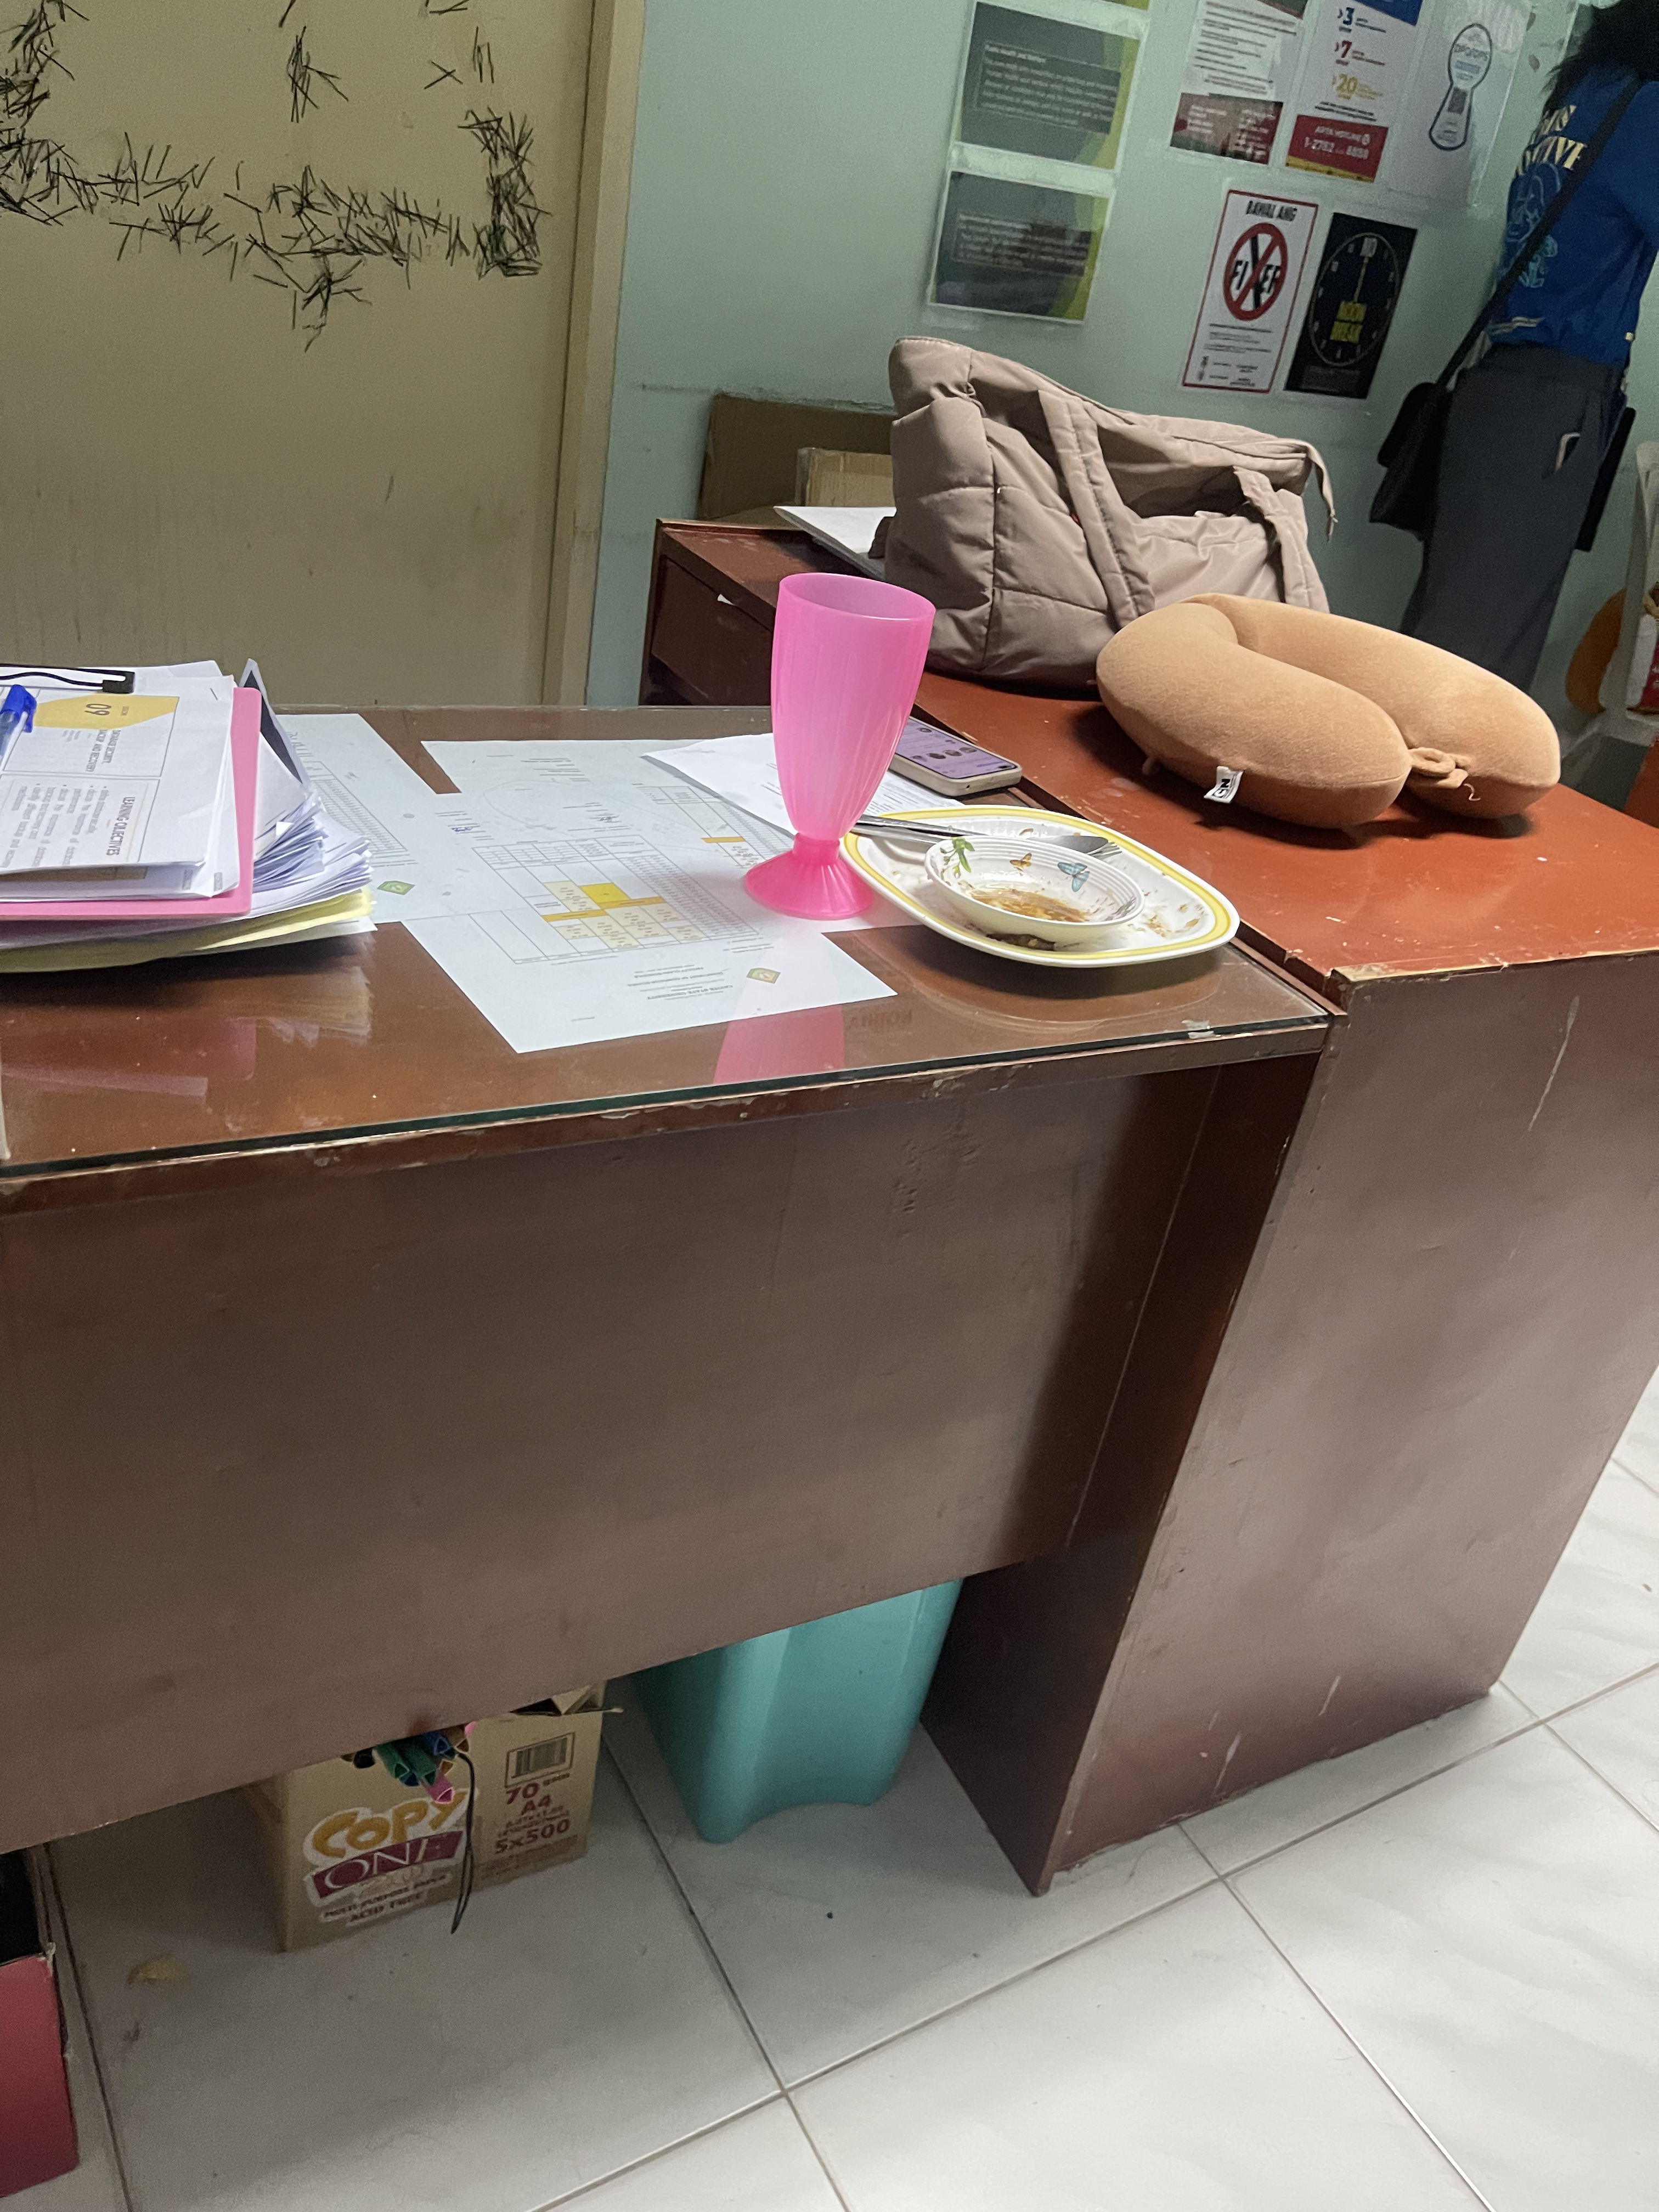table2: (21, 509, 1659, 1942)
